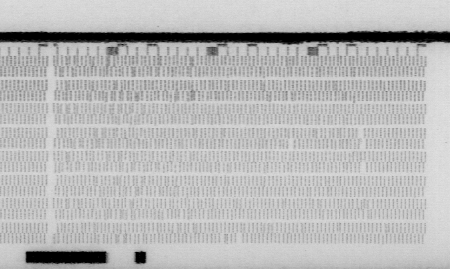Broken hole: (355, 126, 369, 149), (234, 232, 247, 245), (285, 139, 298, 151), (358, 161, 369, 172)
Oblique printing: (64, 127, 207, 245), (53, 55, 225, 103), (55, 100, 165, 127), (329, 80, 351, 104), (259, 78, 276, 103), (355, 199, 375, 220), (311, 127, 326, 140), (284, 90, 298, 103), (217, 232, 230, 245), (379, 222, 392, 233), (337, 221, 347, 233)
